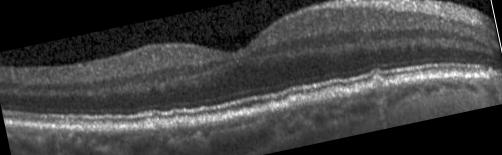retinal_drusen: (287, 95, 306, 106), (174, 119, 189, 127), (153, 120, 165, 129), (372, 77, 382, 87)
